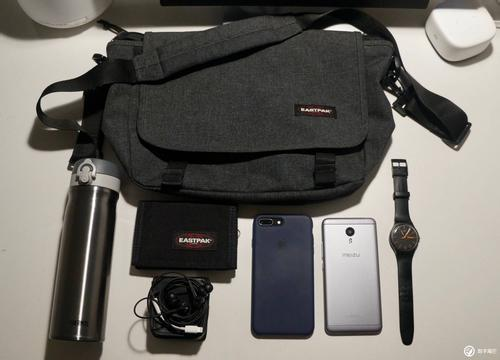flexible: (55, 19, 445, 202)
